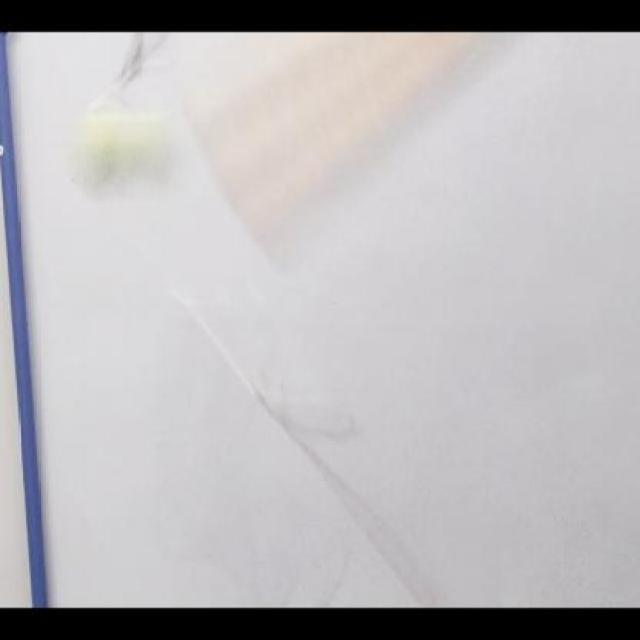baseball: (77, 104, 165, 201)
